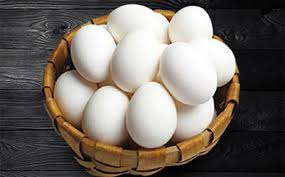eggs: (126, 83, 179, 149), (164, 42, 210, 101), (114, 34, 161, 91), (80, 91, 129, 143), (74, 25, 117, 79), (105, 2, 161, 39), (195, 35, 232, 86), (170, 7, 216, 43), (58, 61, 86, 120)
